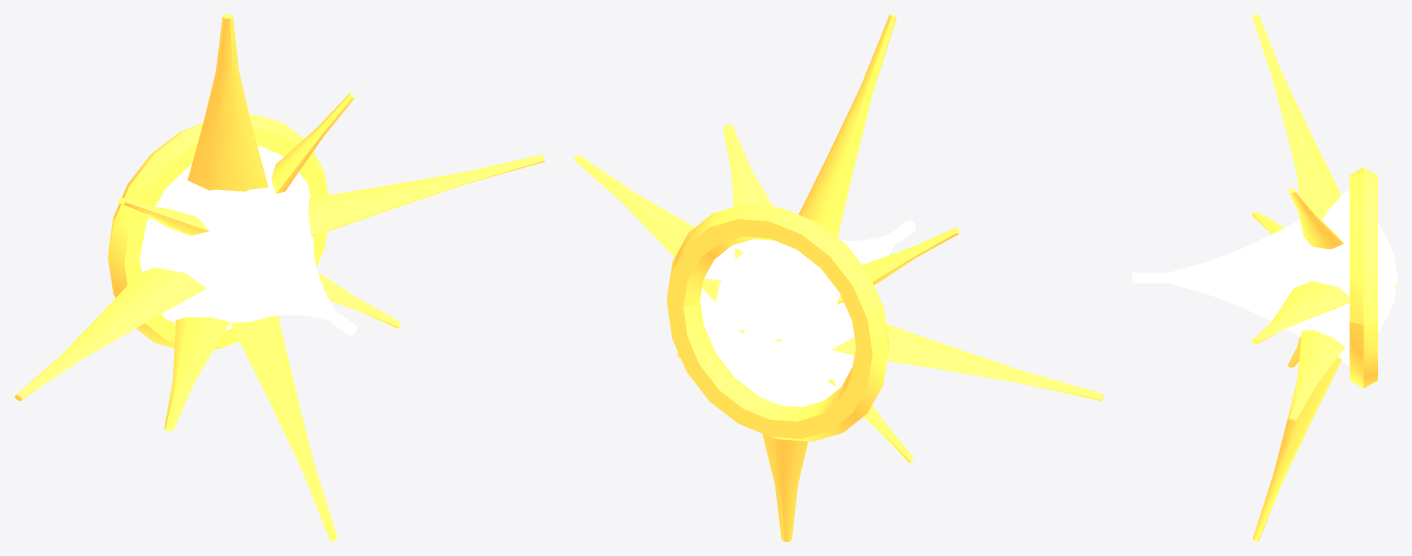
The model's file is fx_muzzle.glb.
3 renders of one model, left to right at view 1: azimuth 30°, elevation 25°; view 2: azimuth 150°, elevation 25°; view 3: azimuth 270°, elevation 25°, orthographic. The views are drawn at different scales.
Parts seen in each view (by area): view 1: muzzle-star-flash-large; view 2: muzzle-star-flash-large; view 3: muzzle-star-flash-large.
Boxes of the visible parts, bbox=[...] form: muzzle-star-flash-large: bbox=[14, 14, 544, 541]; muzzle-star-flash-large: bbox=[573, 14, 1103, 541]; muzzle-star-flash-large: bbox=[1132, 14, 1397, 541].
Size of the model in its own units: 1.17 by 1.17 by 0.585.
